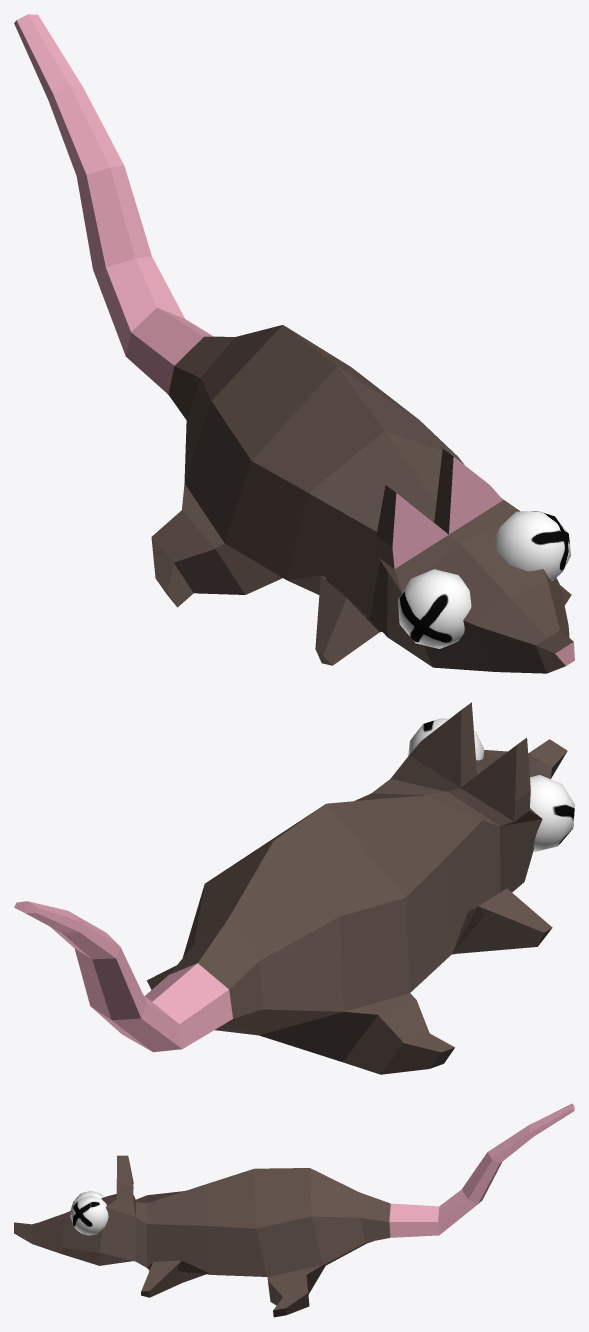
File: DeadRat.fbx
3 views of the same model, one above another, from view 1: azimuth 30°, elevation 25°; view 2: azimuth 150°, elevation 25°; view 3: azimuth 270°, elevation 25° (orthographic). The views are drawn at different scales.
Visible parts, largest first — view 1: Cube; view 2: Cube; view 3: Cube.
Boxes of the visible parts, box(x1,y1,x2,y2) form: Cube: box(14, 14, 574, 673); Cube: box(14, 702, 574, 1074); Cube: box(14, 1103, 574, 1317).
Bounding box in the file's own units: 330 × 361 × 1028.
